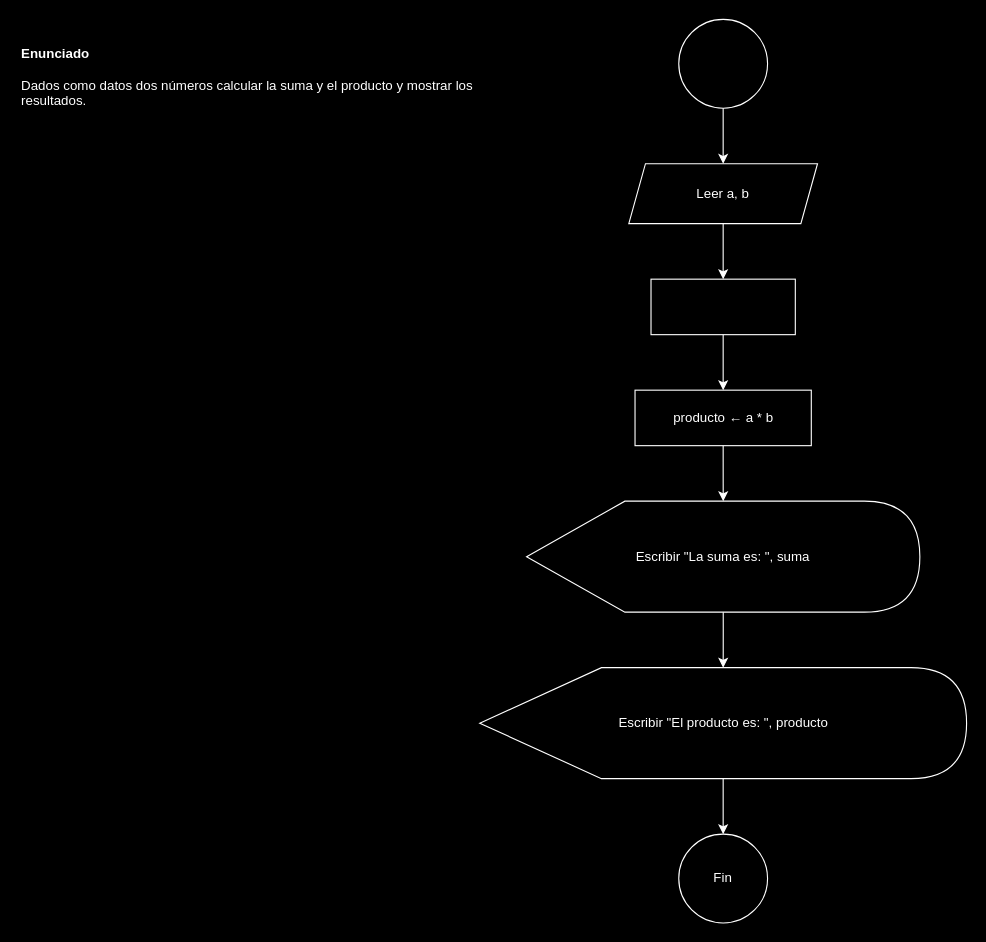
Some shapes in this 986 by 942 pixel diagram are drawn without their labels. Each missing label, with the box of its shape:
Inicio: (678, 18, 768, 108)
suma ← a + b: (650, 278, 795, 335)
